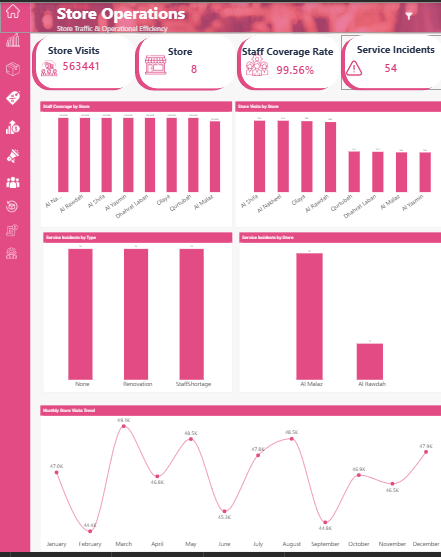

The page's visual inventory and layout, read from the dashboard file:
{"tool":"powerbi","page":{"name":"Store Performance","canvas":[2294,1440],"ordinal":2},"visuals":[{"type":"image","box":[30,178.1,75,98.3],"z":0,"group":"g7"},{"type":"group","id":"g1","title":"Group 1","box":[885,204.6,616,306],"z":0,"group":"g5"},{"type":"group","id":"g2","title":"Group 1","box":[1603.3,204.8,616,306],"z":0,"group":"g6"},{"type":"group","id":"g3","title":"Group 1","box":[205,205.6,616,306],"z":0,"group":"g4"},{"type":"group","id":"g4","title":"Group 2","box":[205,205.6,630,317],"z":0},{"type":"shape","box":[885,217.4,589.7,292.9],"z":0,"group":"g1"},{"type":"shape","box":[1603.3,217.6,589.7,292.9],"z":0,"group":"g2"},{"type":"shape","box":[205,218.4,589.7,292.9],"z":0,"group":"g3"},{"type":"image","title":"filter shape","box":[2206,112,73.3,56.7],"z":1000},{"type":"shape","box":[910.8,204.6,589.7,292.9],"z":1000,"group":"g1"},{"type":"shape","box":[1629.1,204.8,589.7,292.9],"z":1000,"group":"g2"},{"type":"shape","box":[230.8,205.6,589.7,292.9],"z":1000,"group":"g3"},{"type":"card","fields":{"Values":["DimProducts.Quantity Sold"]},"box":[1025.7,269.9,443.3,251.7],"z":1000,"group":"g5"},{"type":"image","box":[1678.3,319.8,130,130],"z":1000,"group":"g6"},{"type":"image","box":[30,336.3,75,98.3],"z":1000,"group":"g7"},{"type":"image","box":[242.8,343.4,120,106.7],"z":1000,"group":"g4"},{"type":"group","id":"g5","title":"Group 3","box":[885,204.6,630.7,317],"z":2000},{"type":"card","fields":{"Values":["DimProducts.Average Selling Price"]},"box":[1744,270.1,443.3,251.7],"z":2000,"group":"g6"},{"type":"card","fields":{"Values":["DimProducts.Average Sales per Store"]},"box":[345.7,270.9,443.3,251.7],"z":2000,"group":"g4"},{"type":"image","box":[945,331.3,130,130],"z":2000,"group":"g5"},{"type":"image","box":[30,494.4,75,98.3],"z":2000,"group":"g7"},{"type":"shape","box":[0,0,165,1440],"z":3000},{"type":"image","box":[30,20,75,98.3],"z":3000,"group":"g7"},{"type":"textbox","box":[1694.4,253.7,540,100],"z":3000,"group":"g6"},{"type":"textbox","box":[1087.7,255.9,428,108],"z":3000,"group":"g5"},{"type":"textbox","box":[321,256.4,514,110],"z":3000,"group":"g4"},{"type":"image","box":[166.7,0,2393.3,170],"z":4000},{"type":"image","box":[30,652.6,75,98.3],"z":4000,"group":"g7"},{"type":"shape","box":[0,0,2396.7,170],"z":5000},{"type":"image","box":[30,810.7,75,98.3],"z":5000,"group":"g7"},{"type":"textbox","box":[250,0,1050,240],"z":6000},{"type":"image","box":[30,968.9,75,70],"z":6000,"group":"g7"},{"type":"image","box":[2430,0,52.5,125],"z":7000},{"type":"image","box":[30,1098.7,63.3,70],"z":7000,"group":"g7"},{"type":"group","id":"g6","title":"Group 2","box":[1603.3,204.8,630,316.7],"z":8000},{"type":"image","box":[30,1228.5,63.3,70],"z":8000,"group":"g7"},{"type":"scatterChart","fields":{"Series":["DimStores.StoreName"],"X":["DimProducts.Total Sales"],"Y":["DimProducts.Quantity Sold"]},"box":[1205,625,1075,735],"z":9000},{"type":"image","box":[30,1358.3,63.3,70],"z":9000,"group":"g7"},{"type":"columnChart","title":"Sales by Store","fields":{"Category":["DimStores.StoreName"],"Y":["DimProducts.Total Sales"]},"box":[205,605,940,735],"z":12000},{"type":"image","title":"filter","box":[2193.3,43.3,75,55],"z":13000},{"type":"group","id":"g7","title":"pages","box":[30,20,75,1408.3],"z":14000}]}

Visuals, with their boxes on the page's 2294x1440 design canvas (x1, y1, x2, y2). These are canvas units, not pixel positions in the 441x557 screenshot, which may show the page scaled, cropped or inside an application window:
image: bbox(30, 178, 105, 276)
"Group 1" group: bbox(885, 205, 1501, 511)
"Group 1" group: bbox(1603, 205, 2219, 511)
"Group 1" group: bbox(205, 206, 821, 512)
"Group 2" group: bbox(205, 206, 835, 523)
shape: bbox(885, 217, 1475, 510)
shape: bbox(1603, 218, 2193, 510)
shape: bbox(205, 218, 795, 511)
"filter shape" image: bbox(2206, 112, 2279, 169)
shape: bbox(911, 205, 1500, 498)
shape: bbox(1629, 205, 2219, 498)
shape: bbox(231, 206, 820, 498)
card - DimProducts.Quantity Sold: bbox(1026, 270, 1469, 522)
image: bbox(1678, 320, 1808, 450)
image: bbox(30, 336, 105, 435)
image: bbox(243, 343, 363, 450)
"Group 3" group: bbox(885, 205, 1516, 522)
card - DimProducts.Average Selling Price: bbox(1744, 270, 2187, 522)
card - DimProducts.Average Sales per Store: bbox(346, 271, 789, 523)
image: bbox(945, 331, 1075, 461)
image: bbox(30, 494, 105, 593)
shape: bbox(0, 0, 165, 1440)
image: bbox(30, 20, 105, 118)
textbox: bbox(1694, 254, 2234, 354)
textbox: bbox(1088, 256, 1516, 364)
textbox: bbox(321, 256, 835, 366)
image: bbox(167, 0, 2560, 170)
image: bbox(30, 653, 105, 751)
shape: bbox(0, 0, 2397, 170)
image: bbox(30, 811, 105, 909)
textbox: bbox(250, 0, 1300, 240)
image: bbox(30, 969, 105, 1039)
image: bbox(2430, 0, 2482, 125)
image: bbox(30, 1099, 93, 1169)
"Group 2" group: bbox(1603, 205, 2233, 522)
image: bbox(30, 1228, 93, 1298)
scatterChart - DimStores.StoreName x DimProducts.Total Sales: bbox(1205, 625, 2280, 1360)
image: bbox(30, 1358, 93, 1428)
"Sales by Store" columnChart: bbox(205, 605, 1145, 1340)
"filter" image: bbox(2193, 43, 2268, 98)
"pages" group: bbox(30, 20, 105, 1428)
